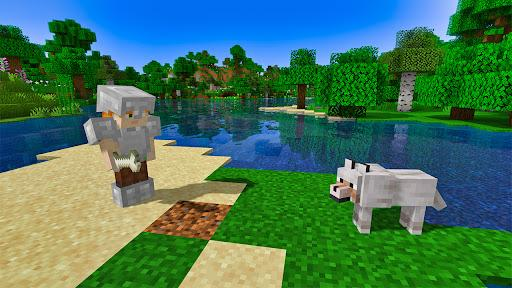wolf: (329, 160, 447, 234)
